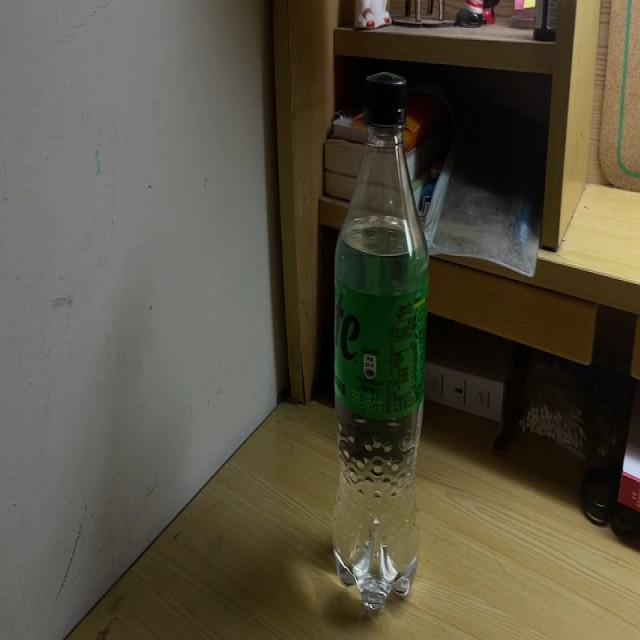Sprite: (332, 70, 430, 611)
